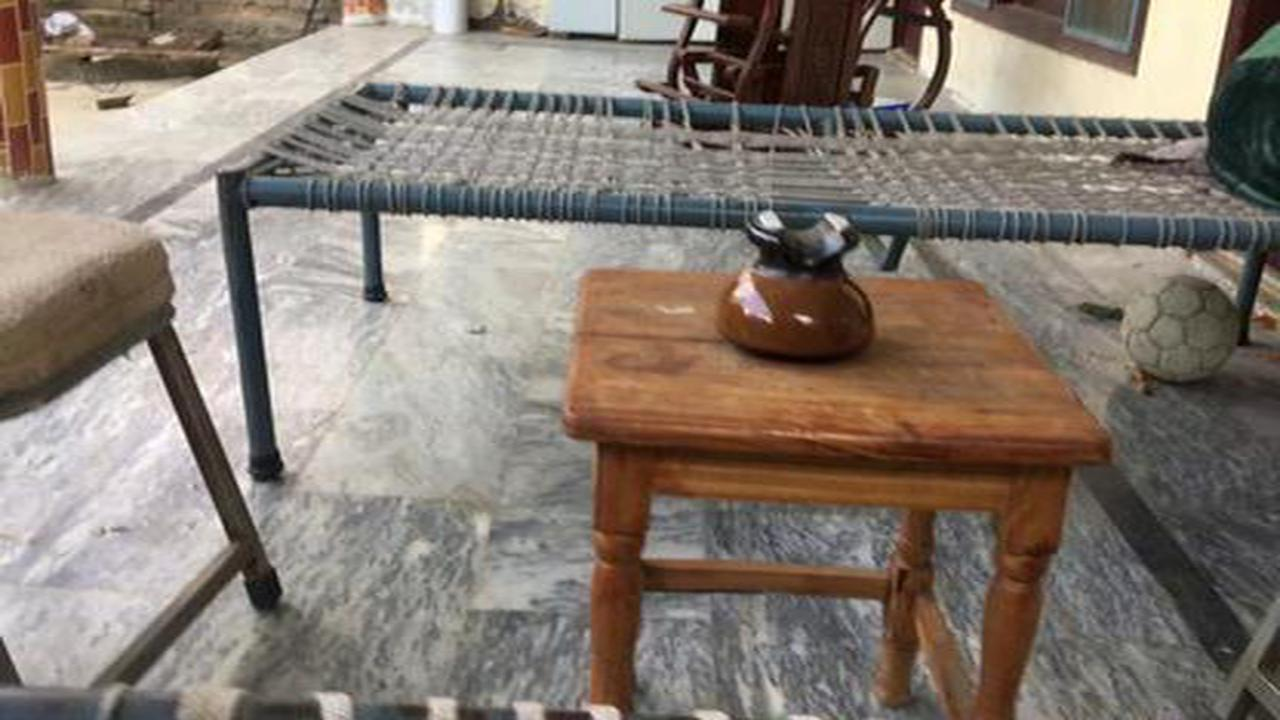insulator_pin: (693, 187, 902, 369)
